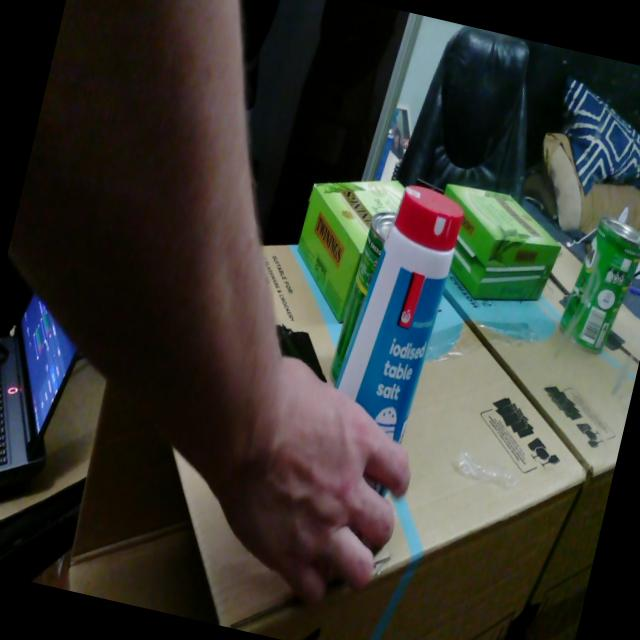nestle_milo_tin: (329, 211, 396, 385)
twinings_greentea_box: (297, 181, 404, 322)
woolworths_salt_bottle: (334, 186, 463, 442), (370, 481, 387, 495)
